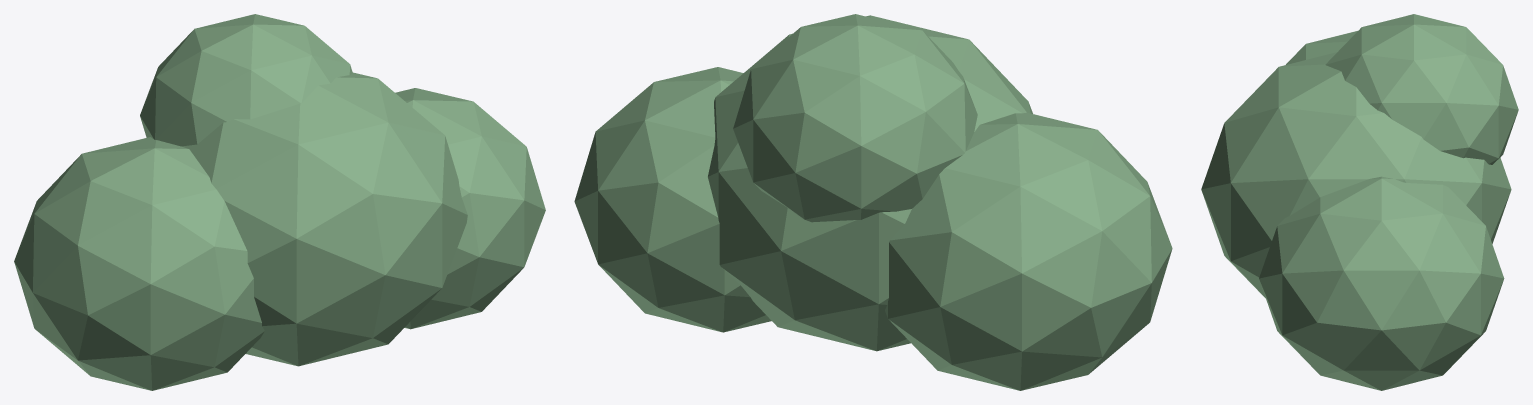
3 views of the same model, side by side, from view 1: azimuth 30°, elevation 25°; view 2: azimuth 150°, elevation 25°; view 3: azimuth 270°, elevation 25° (orthographic). The views are drawn at different scales.
Visible parts, largest first — view 1: Foliage.2, Foliage.1, Foliage.4, Foliage.3; view 2: Foliage.1, Foliage.4, Foliage.3, Foliage.2; view 3: Foliage.3, Foliage.2, Foliage.4, Foliage.1.
Boxes of the visible parts, x1=… form: Foliage.2: x1=181, y1=72, x2=467, y2=366; Foliage.1: x1=14, y1=137, x2=264, y2=390; Foliage.4: x1=140, y1=14, x2=352, y2=146; Foliage.3: x1=395, y1=88, x2=545, y2=329; Foliage.1: x1=885, y1=112, x2=1172, y2=390; Foliage.4: x1=733, y1=14, x2=977, y2=222; Foliage.3: x1=574, y1=67, x2=771, y2=332; Foliage.2: x1=708, y1=15, x2=1032, y2=351; Foliage.3: x1=1259, y1=176, x2=1504, y2=390; Foliage.2: x1=1201, y1=52, x2=1511, y2=298; Foliage.4: x1=1325, y1=14, x2=1518, y2=164; Foliage.1: x1=1286, y1=31, x2=1357, y2=64.
Size of the model in its own units: 1.48 by 0.887 by 0.88.
